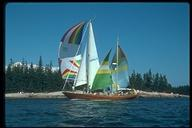sailboat: (55, 15, 144, 102)
sky: (128, 19, 188, 67), (6, 4, 188, 17), (7, 19, 56, 57)
tree: (35, 55, 45, 93), (45, 61, 55, 91), (145, 68, 155, 92)
water: (7, 103, 187, 125)
